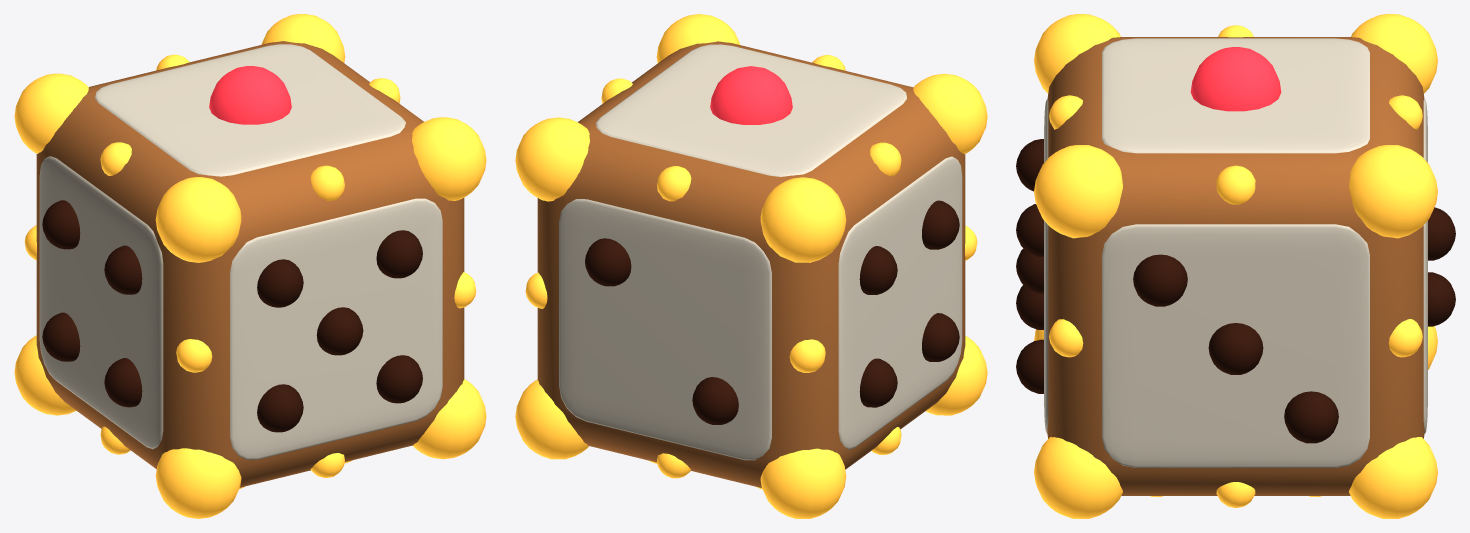
The model's file is bwed-dice.glb.
The picture shows the model from 3 angles, left to right: view 1: azimuth 30°, elevation 25°; view 2: azimuth 150°, elevation 25°; view 3: azimuth 270°, elevation 25°; orthographic projection. The views are drawn at different scales.
Visible parts, largest first — view 1: BriocheDiceBody, Cube.003, Cube.005, Cube, Sphere.022, Sphere.021, Sphere.026, Sphere, Sphere.024, Sphere.025, Sphere.023, Sphere.028 (+14 smaller); view 2: BriocheDiceBody, Cube.002, Cube.005, Cube, Sphere.024, Sphere.023, Sphere.028, Sphere, Sphere.022, Sphere.027, Sphere.021, Sphere.026 (+11 smaller); view 3: Cube.004, BriocheDiceBody, Cube, Sphere.028, Sphere.026, Sphere.027, Sphere.025, Sphere, Sphere.022, Sphere.024, Sphere.016, Sphere.014 (+16 smaller).
Boxes of the visible parts, left/top/right/bottom form: BriocheDiceBody: left=36, top=41, right=464, bottom=487; Cube.003: left=230, top=198, right=442, bottom=459; Cube.005: left=39, top=156, right=163, bottom=449; Cube: left=95, top=44, right=405, bottom=176; Sphere.022: left=155, top=177, right=241, bottom=262; Sphere.021: left=155, top=448, right=241, bottom=518; Sphere.026: left=412, top=117, right=486, bottom=200; Sphere: left=209, top=66, right=291, bottom=124; Sphere.024: left=14, top=73, right=88, bottom=153; Sphere.025: left=413, top=379, right=486, bottom=459; Sphere.023: left=14, top=335, right=76, bottom=415; Sphere.028: left=261, top=14, right=345, bottom=62; BriocheDiceBody: left=537, top=41, right=965, bottom=487; Cube.002: left=559, top=199, right=771, bottom=460; Cube.005: left=838, top=156, right=962, bottom=449; Cube: left=596, top=44, right=906, bottom=176; Sphere.024: left=760, top=177, right=846, bottom=262; Sphere.023: left=760, top=448, right=846, bottom=518; Sphere.028: left=515, top=117, right=589, bottom=201; Sphere: left=710, top=66, right=792, bottom=124; Sphere.022: left=913, top=73, right=987, bottom=154; Sphere.027: left=515, top=379, right=588, bottom=459; Sphere.021: left=926, top=336, right=987, bottom=415; Sphere.026: left=656, top=14, right=740, bottom=63; Cube.004: left=1102, top=224, right=1369, bottom=467; BriocheDiceBody: left=1047, top=37, right=1424, bottom=495; Cube: left=1102, top=38, right=1369, bottom=153; Sphere.028: left=1349, top=145, right=1437, bottom=238; Sphere.026: left=1034, top=145, right=1122, bottom=238; Sphere.027: left=1349, top=437, right=1437, bottom=518; Sphere.025: left=1034, top=437, right=1122, bottom=518; Sphere: left=1190, top=47, right=1281, bottom=111; Sphere.022: left=1034, top=14, right=1120, bottom=93; Sphere.024: left=1351, top=14, right=1437, bottom=93; Sphere.016: left=1284, top=391, right=1338, bottom=443; Sphere.014: left=1133, top=254, right=1187, bottom=306.
Bounding box in the file's own units: 2.33 × 2.42 × 2.33.
